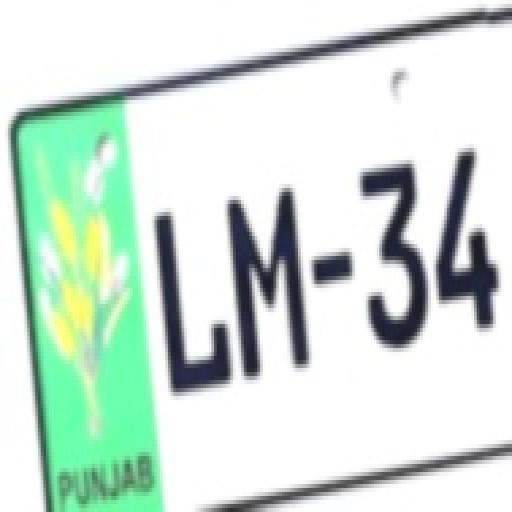3: (349, 147, 432, 396)
4: (436, 138, 504, 381)
L: (147, 197, 228, 406)
M: (226, 183, 312, 405)
